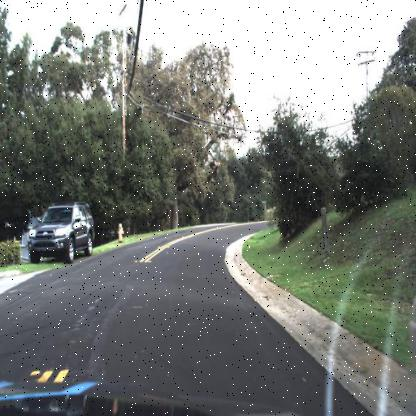car: (18, 185, 101, 271)
